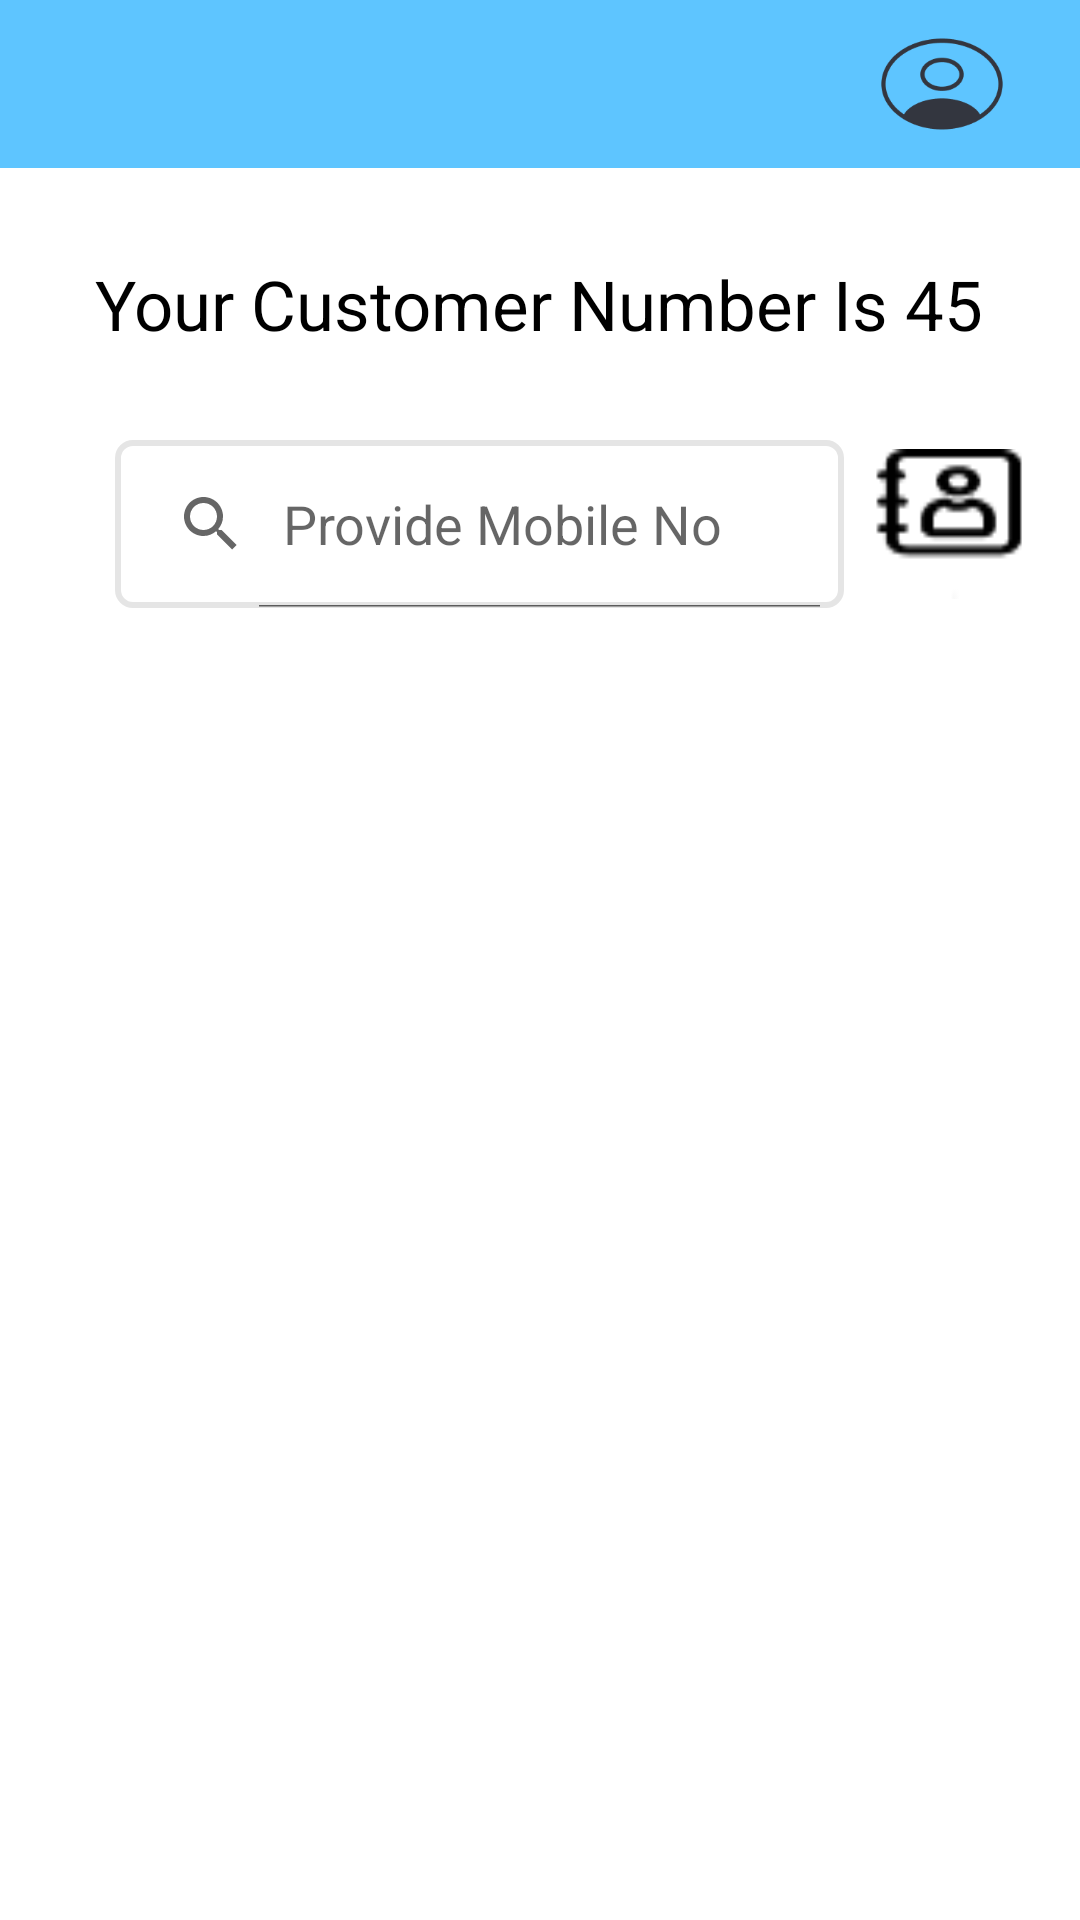

Screen size 1080px×1920px. Icon name, then its center in pixels as (x,y):
contact: (949,503)
profile: (942,84)
